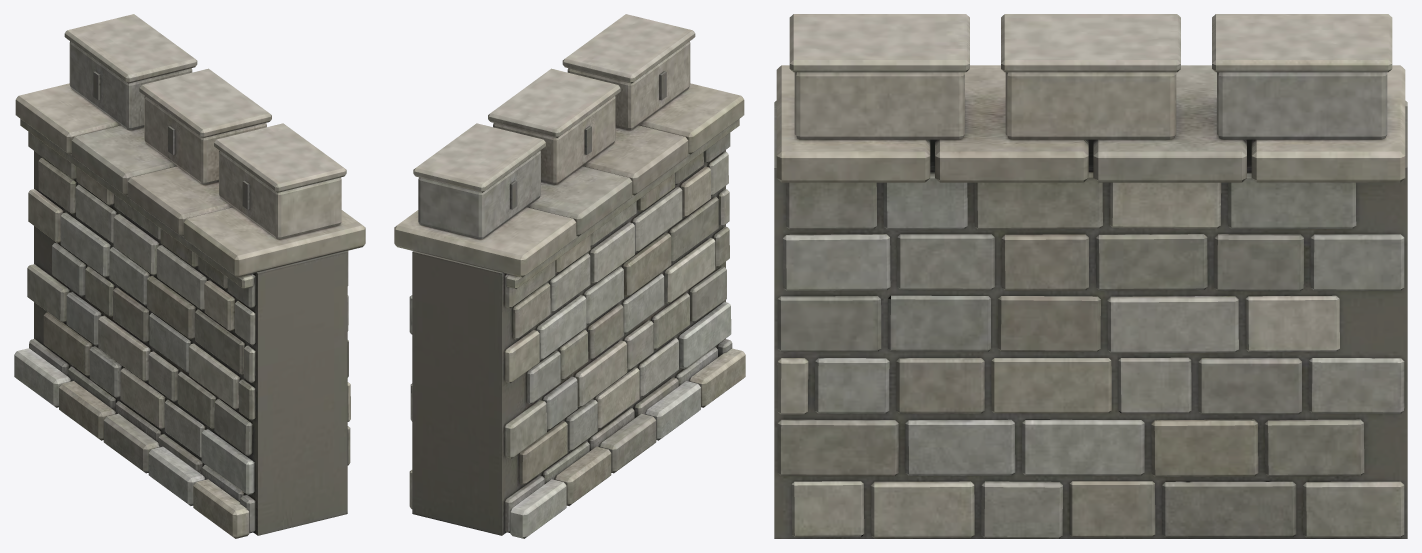
The model's file is kit_wall.glb.
3 views of the same model, side by side, from view 1: azimuth 30°, elevation 25°; view 2: azimuth 150°, elevation 25°; view 3: azimuth 270°, elevation 25° (orthographic). The views are drawn at different scales.
Parts seen in each view (by area): view 1: box; view 2: box; view 3: box.
Part boxes in pixels (bbox=[...]): box: bbox=[14, 14, 365, 538]; box: bbox=[394, 14, 745, 538]; box: bbox=[774, 14, 1407, 538].
Size of the model in its own units: 2.23 by 5.45 by 6.5.
1 material, 1 textured.
